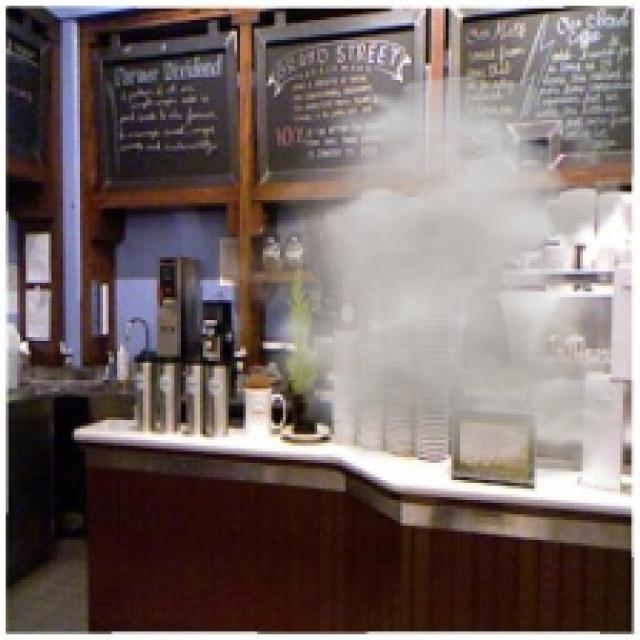Smoke: (217, 74, 637, 483)
